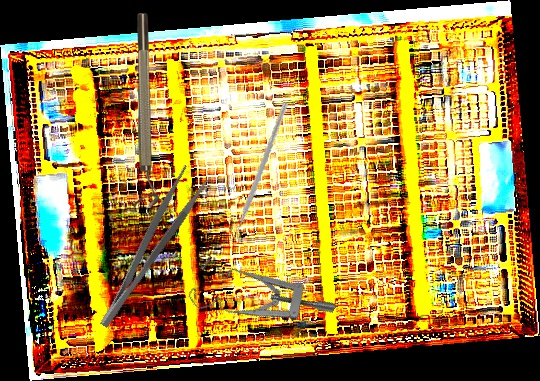Chopper: (198, 101, 312, 244)
Dressing Forceps: (83, 164, 212, 331)
Fixation Ring: (134, 13, 159, 208)
Speculum: (181, 231, 338, 371)
